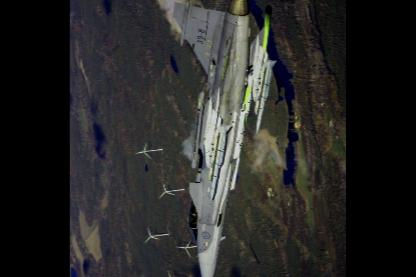JAS39: (172, 0, 277, 276)
